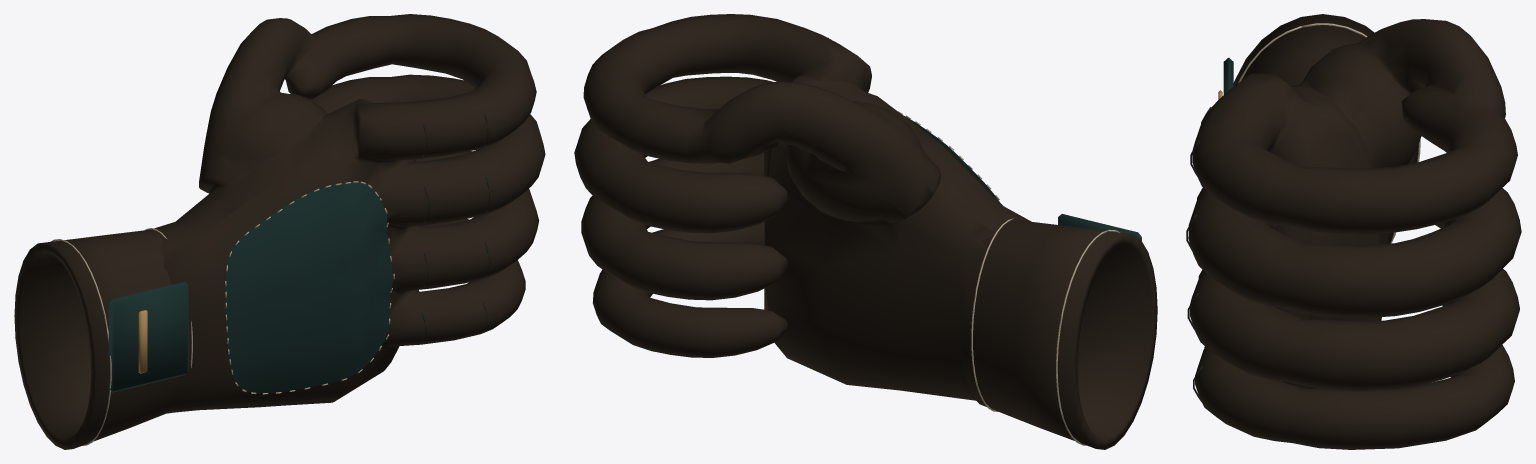
The model's file is right_glove-DCBmtse7.glb.
3 renders of one model, left to right at view 1: azimuth 30°, elevation 25°; view 2: azimuth 150°, elevation 25°; view 3: azimuth 270°, elevation 25°, orthographic. The views are drawn at different scales.
Parts seen in each view (by area): view 1: Right glove • Supple charcoal leather, Right glove • Deep teal leather panels, Right glove • Warm ivory seam thread, Right glove • Satin champagne bronze, Right glove • Dark suede lining; view 2: Right glove • Supple charcoal leather, Right glove • Warm ivory seam thread, Right glove • Deep teal leather panels; view 3: Right glove • Supple charcoal leather, Right glove • Warm ivory seam thread, Right glove • Dark suede lining, Right glove • Deep teal leather panels.
Boxes of the visible parts, box(x1,y1,x2,y2) form: Right glove • Supple charcoal leather: box(14, 14, 545, 449); Right glove • Deep teal leather panels: box(108, 181, 393, 393); Right glove • Warm ivory seam thread: box(50, 181, 394, 445); Right glove • Satin champagne bronze: box(138, 310, 147, 373); Right glove • Dark suede lining: box(422, 113, 490, 342); Right glove • Supple charcoal leather: box(574, 14, 1157, 449); Right glove • Warm ivory seam thread: box(898, 111, 1120, 445); Right glove • Deep teal leather panels: box(903, 115, 1141, 240); Right glove • Supple charcoal leather: box(1188, 14, 1521, 449); Right glove • Warm ivory seam thread: box(1238, 23, 1420, 243); Right glove • Dark suede lining: box(1186, 107, 1211, 401); Right glove • Deep teal leather panels: box(1223, 57, 1233, 94).
Size of the model in its own units: 0.163 by 0.1047 by 0.0818.
